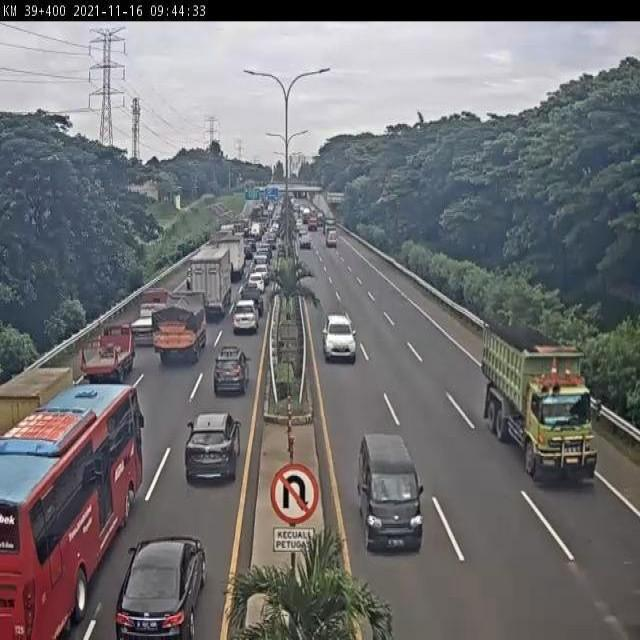car: (116, 520, 211, 640), (358, 424, 431, 563), (185, 405, 240, 491), (322, 309, 358, 371), (211, 340, 248, 400), (229, 295, 263, 337)
truck: (0, 371, 153, 639), (485, 317, 607, 495), (0, 361, 76, 460), (148, 289, 202, 359), (188, 246, 238, 318), (82, 323, 130, 381), (129, 283, 167, 344)
